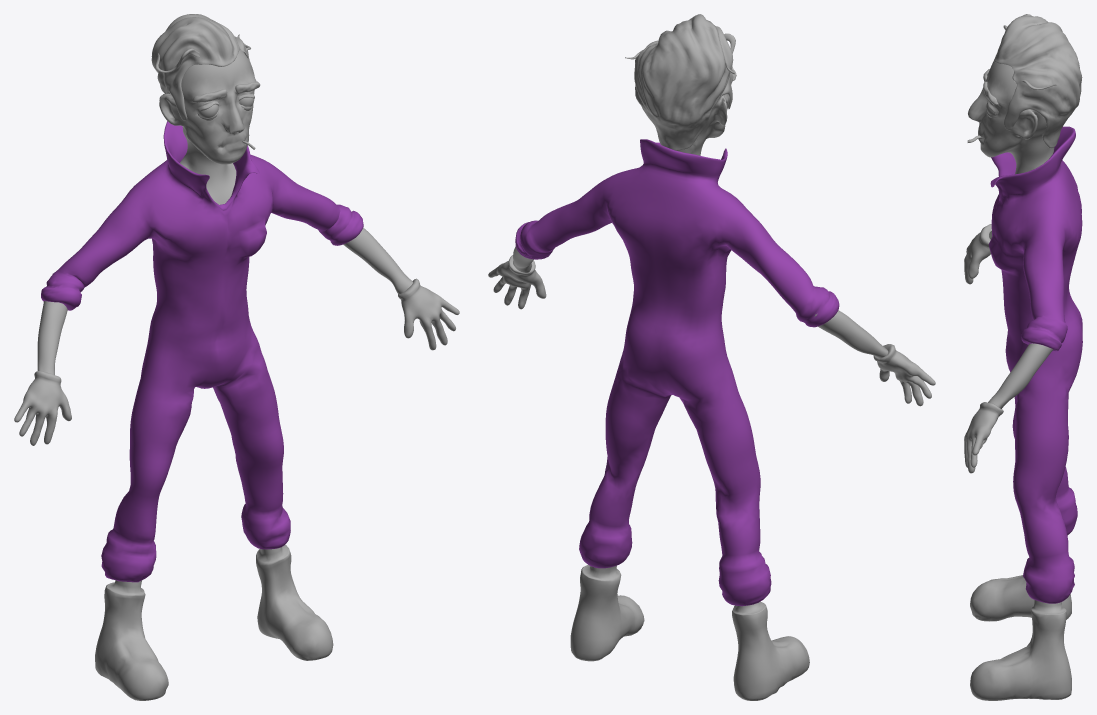
The model's file is PlayerCharacterV4.fbx.
The picture shows the model from 3 angles, left to right: view 1: azimuth 30°, elevation 25°; view 2: azimuth 150°, elevation 25°; view 3: azimuth 270°, elevation 25°; orthographic projection. The views are drawn at different scales.
Visible parts, largest first — view 1: suit, body, hair, righthand, lefthand; view 2: suit, body, hair, righthand, lefthand; view 3: suit, body, hair, lefthand, righthand.
Part boxes in pixels (left/top/right/bottom): suit: left=41, top=121, right=363, bottom=582; body: left=37, top=50, right=412, bottom=700; hair: left=151, top=14, right=254, bottom=120; righthand: left=14, top=371, right=71, bottom=445; lefthand: left=398, top=278, right=459, bottom=350; suit: left=515, top=139, right=839, bottom=606; body: left=513, top=72, right=888, bottom=700; hair: left=634, top=14, right=733, bottom=150; righthand: left=873, top=344, right=935, bottom=406; lefthand: left=488, top=255, right=546, bottom=309; suit: left=988, top=126, right=1082, bottom=603; body: left=968, top=61, right=1071, bottom=700; hair: left=994, top=14, right=1082, bottom=148; lefthand: left=964, top=402, right=1003, bottom=473; righthand: left=964, top=224, right=991, bottom=284.
Size of the model in its own units: 140 by 196 by 33.18.
